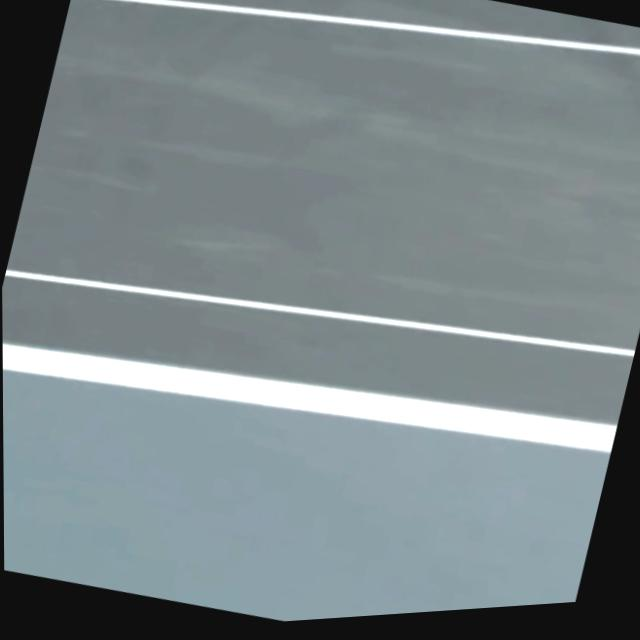left: (3, 344, 616, 453)
